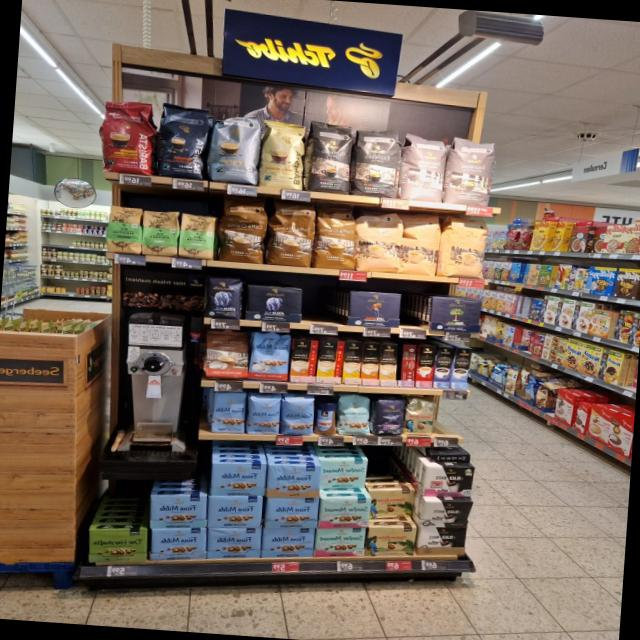AB Bohne: (204, 274, 244, 319)
AB Gemahlen: (244, 282, 304, 324)
Athiopien Bohne: (104, 204, 142, 255)
Athiopien Gemahlen: (176, 210, 217, 260), (140, 208, 180, 256)
BM Gemahlen: (428, 294, 482, 334)
BW Gemahlen: (421, 462, 475, 498), (420, 498, 473, 529), (416, 526, 467, 555)
Barista CB: (258, 118, 308, 190)
Barista CC: (207, 111, 261, 184)
Barista Espresso: (154, 102, 212, 181)
Barista Kolumbien: (95, 96, 156, 174)
C Fino Bohne: (371, 394, 406, 438)
CC Mild: (438, 216, 491, 280), (354, 210, 404, 274), (400, 210, 442, 276)
CC Vollmundig: (203, 328, 250, 380)
CC Vollmundig 36 Pads: (264, 199, 316, 267), (216, 196, 268, 263), (314, 205, 358, 271)
Colombia BB Bohne: (403, 394, 436, 437)
Colombia BB Gemahlen: (364, 524, 418, 557), (371, 487, 416, 519)
Empty Shelf: (301, 285, 348, 325), (434, 398, 464, 438), (400, 293, 430, 328)
Espresso Aromatisch: (444, 134, 496, 207), (398, 132, 448, 202)
Espresso Kraftig: (349, 126, 402, 198), (304, 120, 354, 194)
FM 36 Pads: (248, 331, 291, 382)
FM Bohne: (208, 389, 248, 435), (245, 393, 282, 437), (280, 393, 316, 437)
FM Gemahlen: (148, 491, 208, 531), (208, 459, 267, 499), (206, 492, 264, 532), (266, 461, 322, 500), (206, 523, 262, 562), (263, 495, 319, 530), (260, 524, 314, 560)
FM Instant: (312, 400, 338, 438)
Herzhatfe Mundig: (86, 522, 148, 566)
LG Gemahlen: (348, 288, 403, 329)
SM Bohne: (336, 393, 372, 437)
SM Gemahlen: (317, 495, 372, 529), (313, 527, 366, 557), (320, 457, 368, 489)
Simo CCMild: (316, 338, 344, 384)
Simo CCMild bigpack: (342, 340, 362, 384)
Simo CCVollmundig: (289, 338, 317, 383)
Simo CCVollmundig bigpack: (360, 341, 380, 385)
Simo Decaff: (378, 342, 398, 387)
Simo Es Brazil: (415, 344, 436, 388)
Simo Es Kraft: (433, 345, 453, 389)
Simo Es Vanilla: (451, 347, 472, 390)
